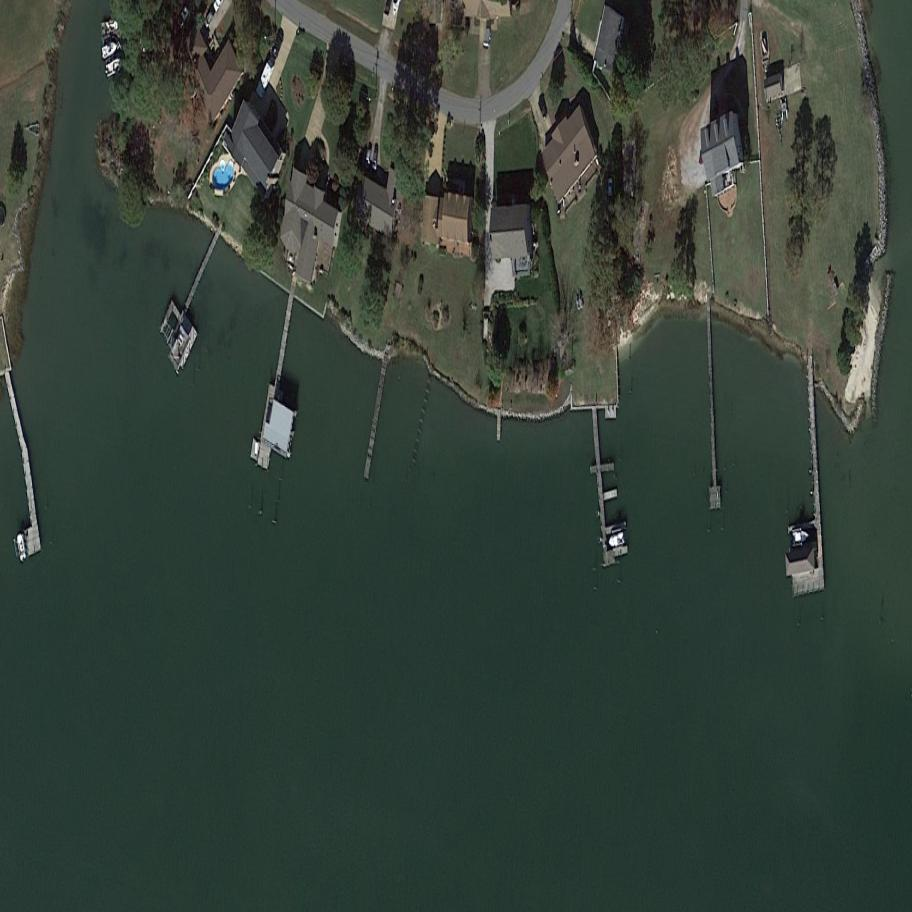large-vehicle: (481, 24, 493, 50)
ship: (100, 54, 129, 81), (96, 35, 125, 61), (95, 16, 123, 38), (788, 526, 811, 552), (604, 530, 630, 550), (14, 531, 28, 566)
small-vehicle: (256, 52, 279, 93), (171, 4, 192, 33), (199, 7, 218, 33), (535, 95, 551, 123), (370, 147, 379, 173), (607, 176, 615, 198), (364, 147, 372, 168)
